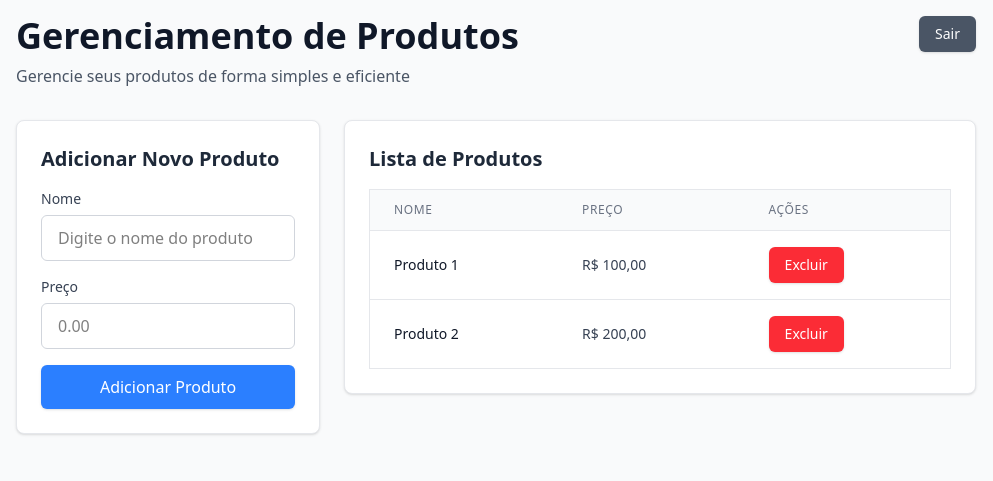
Products - Testes de Integração › fluxo completo: adicionar e depois excluir produto
This screenshot has width=993, height=481.
Expected: the text "Produto 1" is shown, x1=370 y1=230 x2=558 y2=300
Type "Produto Temporário" into the field labelled "Nome". click: [168, 238]
box: x1=41 y1=215 x2=295 y2=261
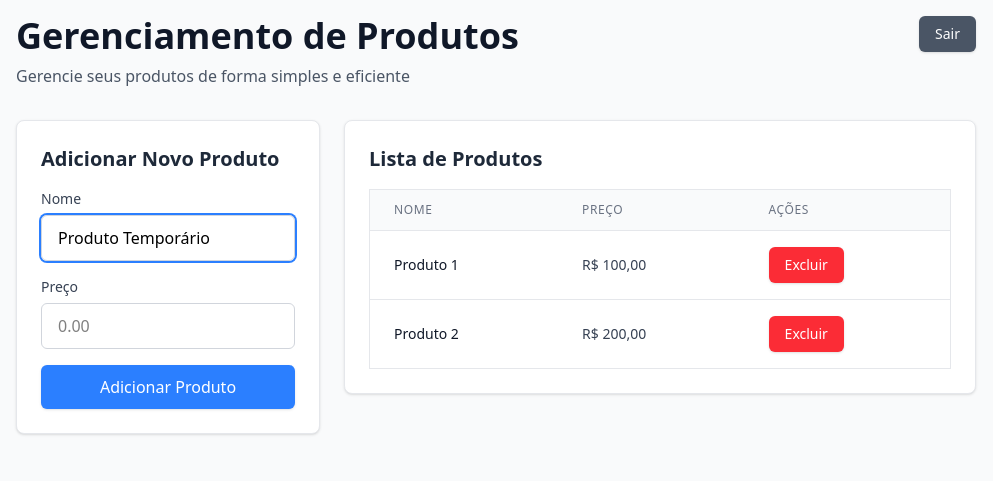
Type "500" into the number field labelled "Preço". click: [168, 326]
box: x1=41 y1=303 x2=295 y2=349
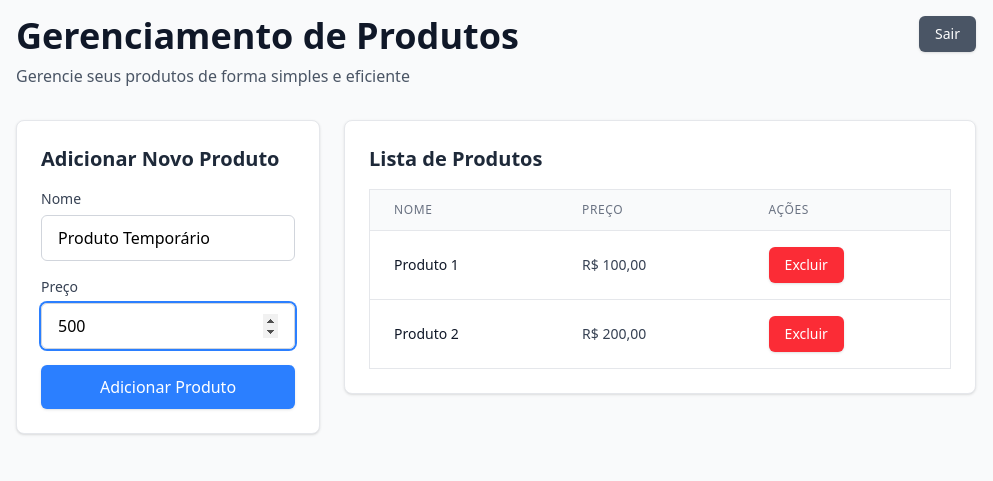
Click the button "Adicionar Produto". click: [168, 387]
box: x1=41 y1=365 x2=295 y2=409
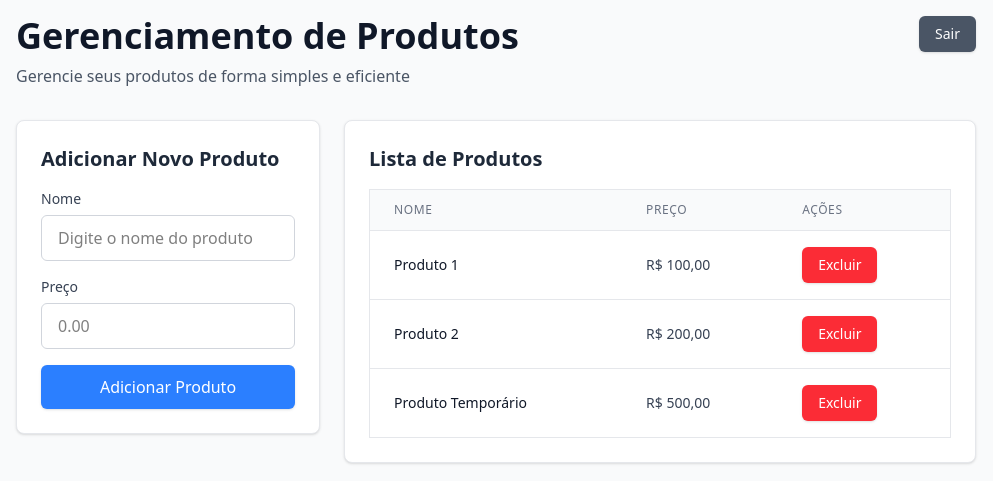
Expected: the text "Produto Temporário" is shown, x1=370 y1=368 x2=622 y2=438
Click the button "Excluir" in the row of "Produto Temporário". click: [840, 403]
box: x1=802 y1=385 x2=878 y2=421
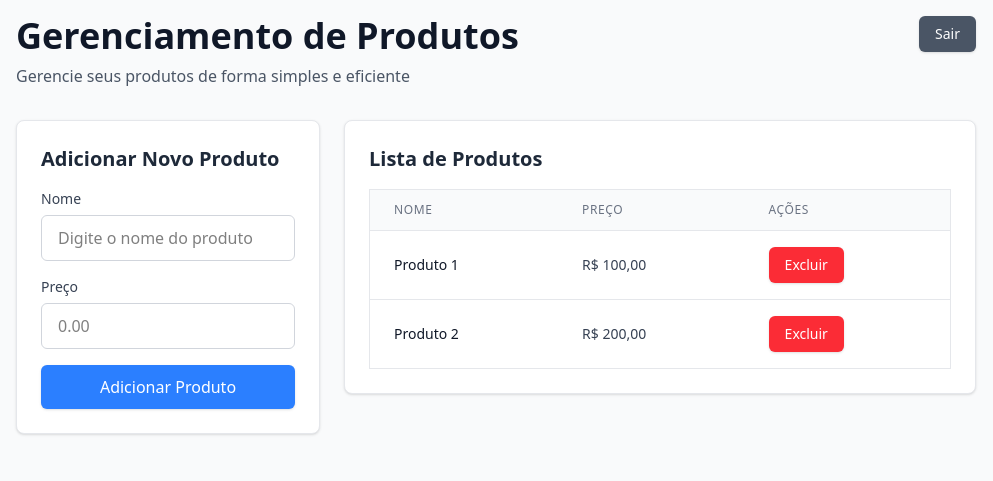
Expected: the text "Produto 1" is shown, x1=370 y1=230 x2=558 y2=300
Expected: the text "Produto Temporário" is gone
